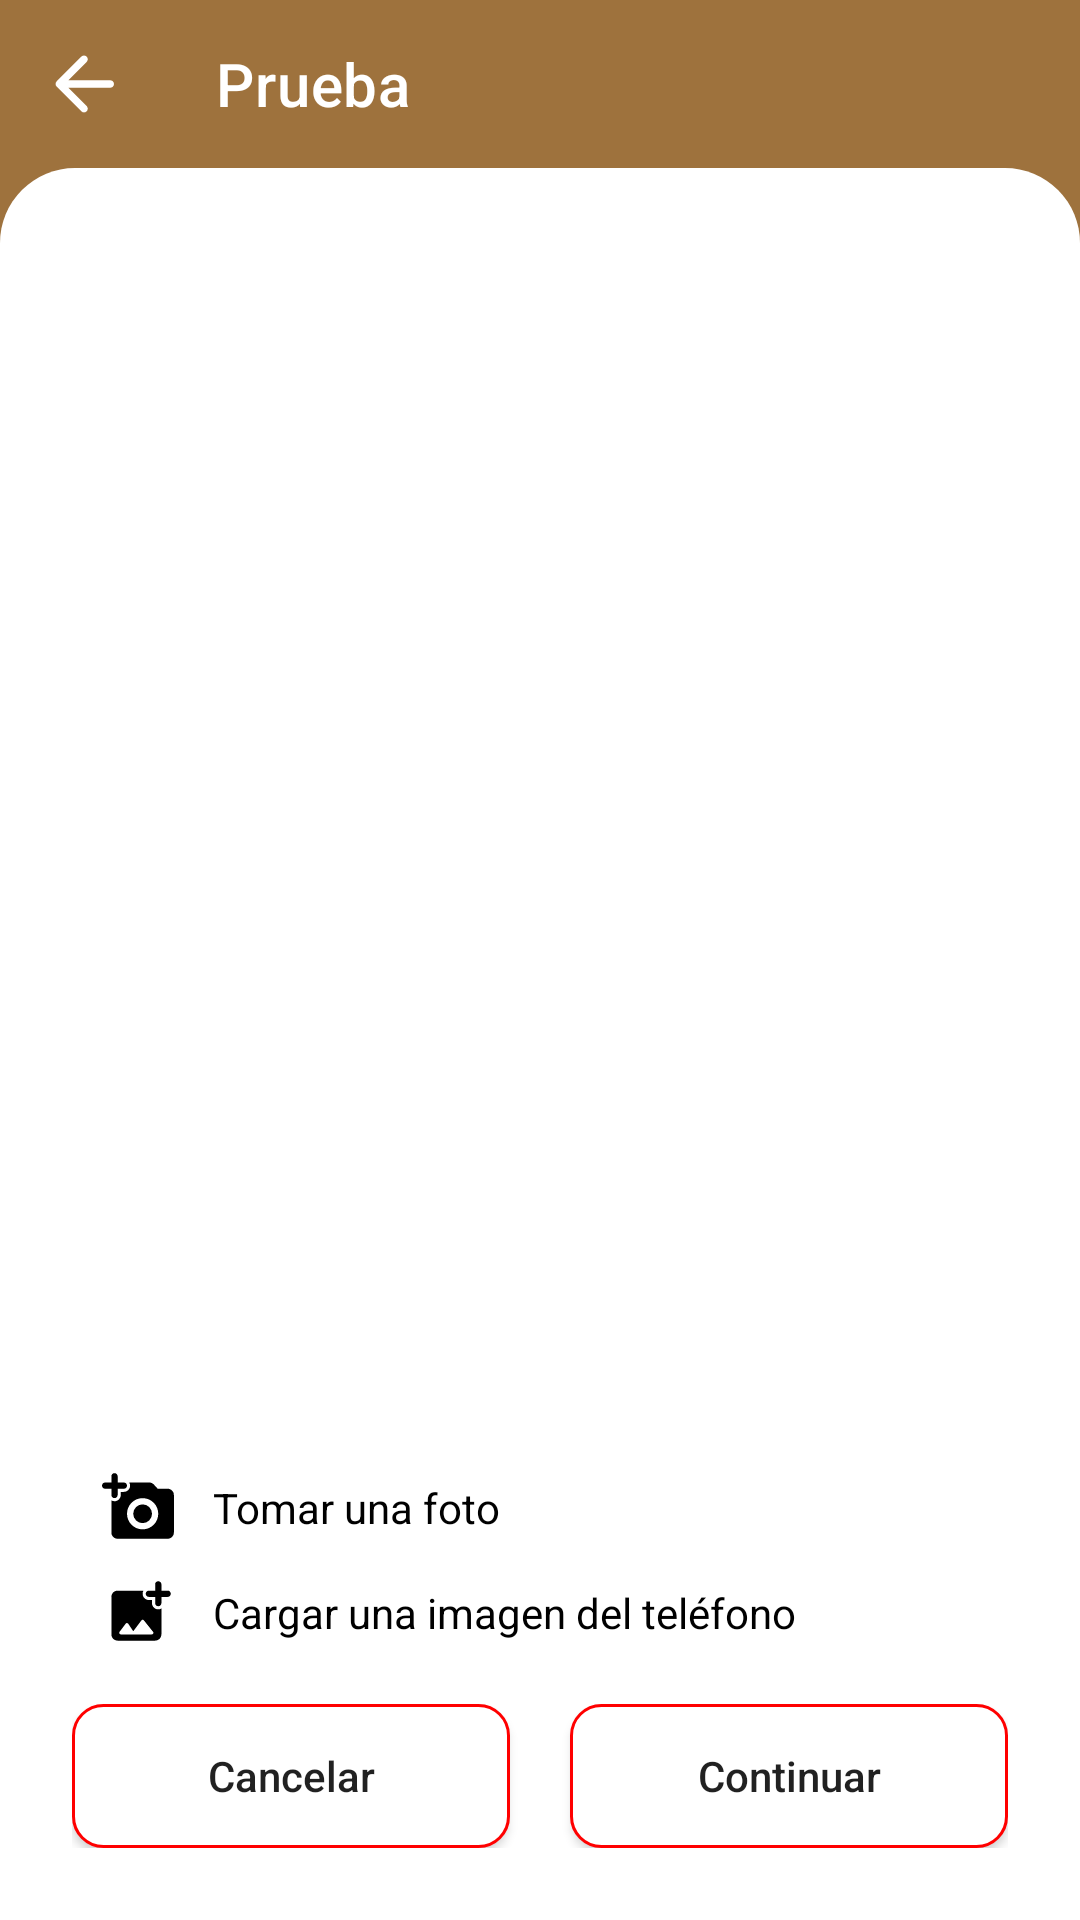

Icon click points for this 1080w x 1920h phone screenshot, format point (x, y):
add photo: point (138, 1506)
add photo alternate: point (141, 1611)
